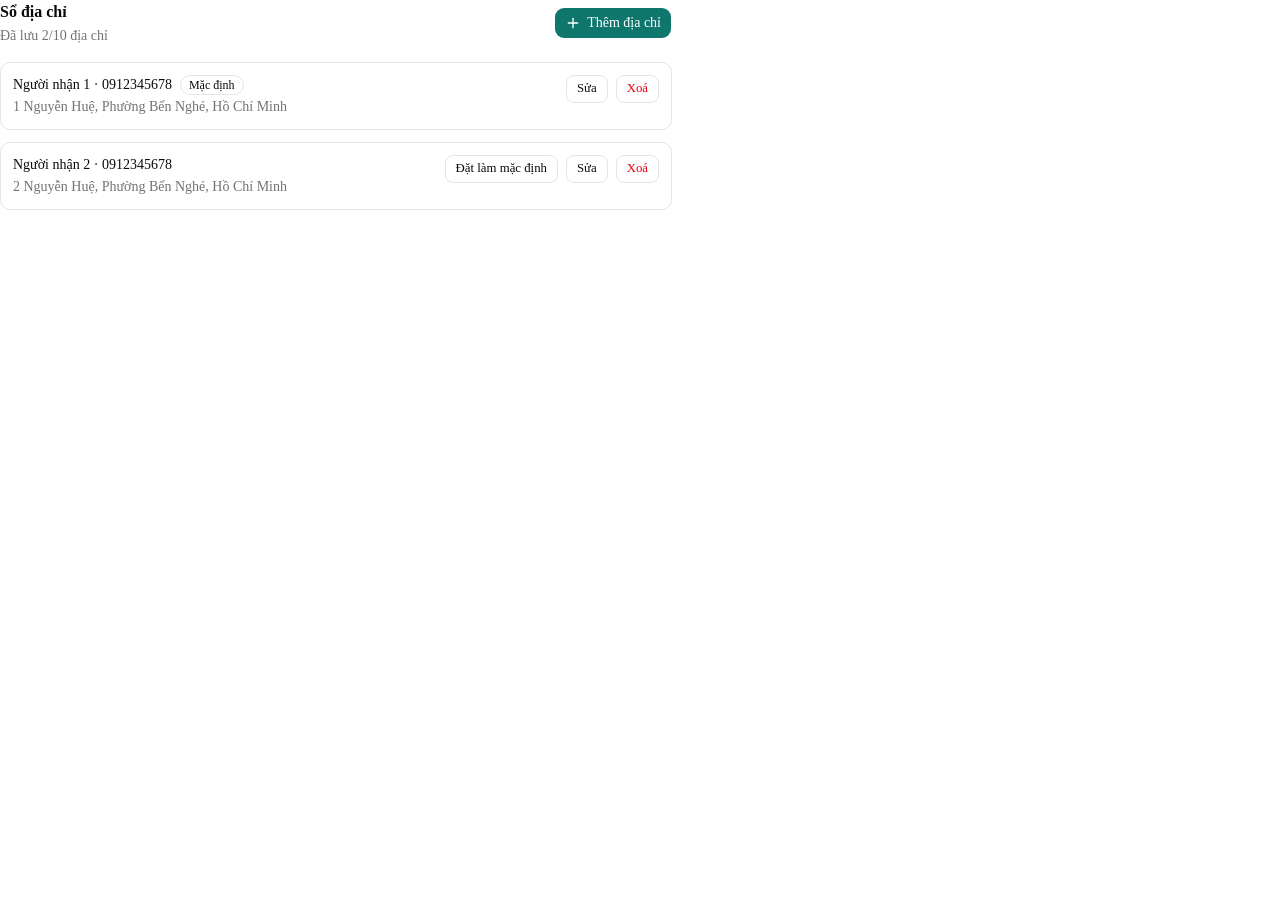
Test case: AddressBookContainer › xoá địa chỉ (phải xác nhận) › bấm Xoá -> chỉ mở hộp thoại, CHƯA xoá
This screenshot has width=1280, height=900.
Click the button with aria-label "Xoá địa chỉ của Người nhận 2" at (637, 169), box x1=616 y1=155 x2=659 y2=183
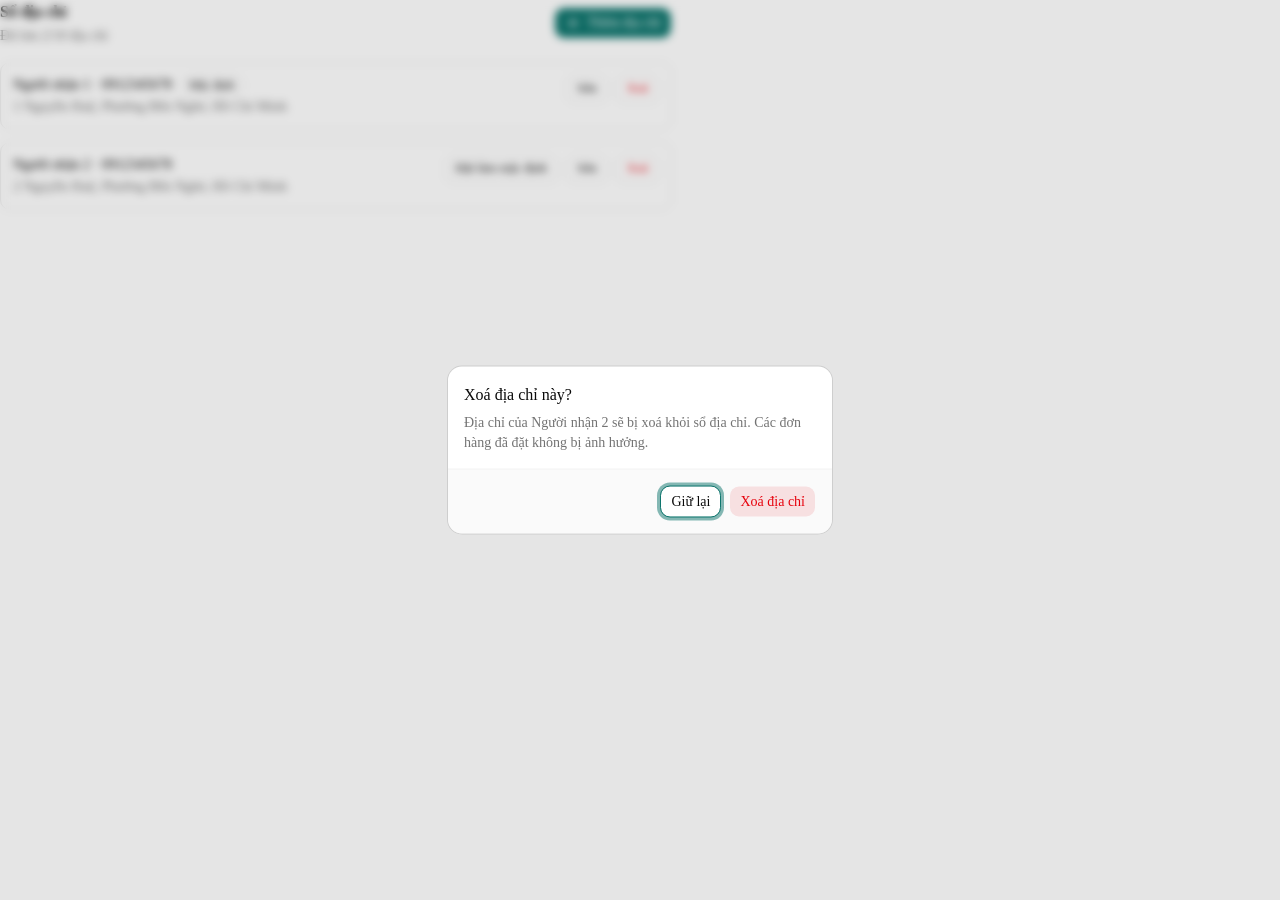
Expected: the heading "Xoá địa chỉ này?" is shown, x1=464 y1=382 x2=572 y2=406
Expected: the text "Địa chỉ của Người nhận 2 sẽ bị xoá" is shown, x1=464 y1=414 x2=801 y2=450
